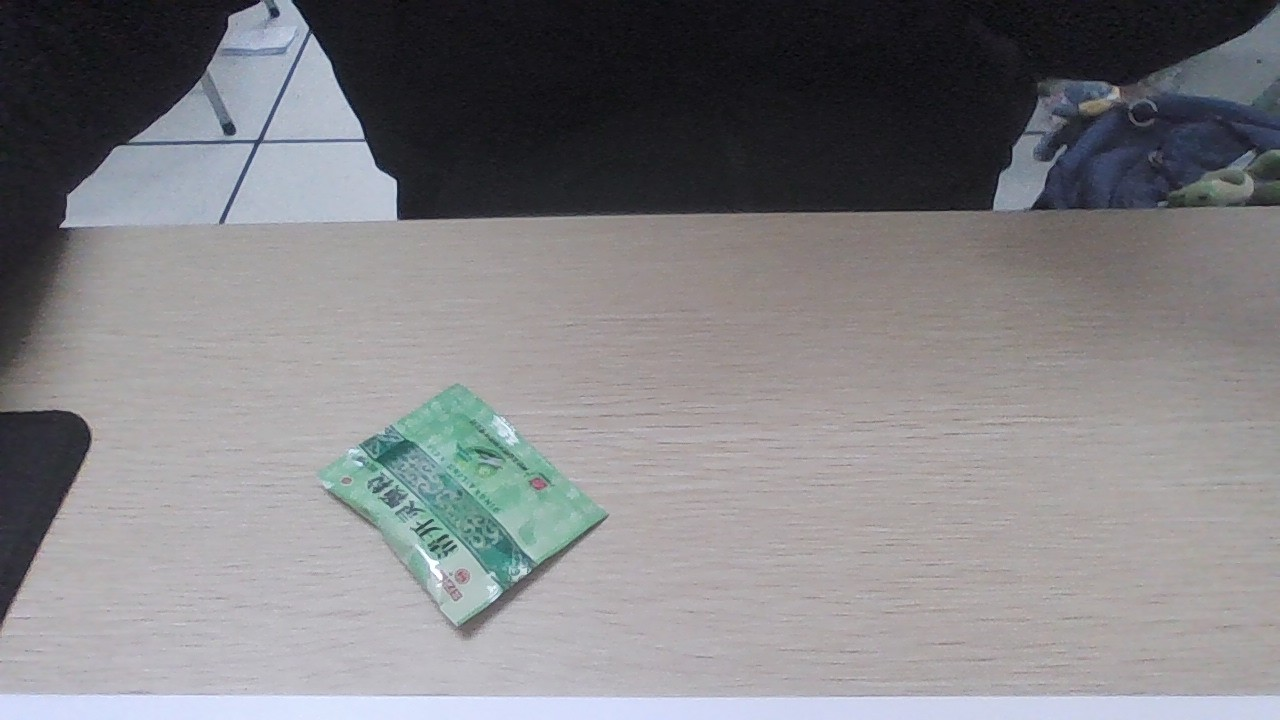YH-green medicine: (340, 388, 584, 595)
